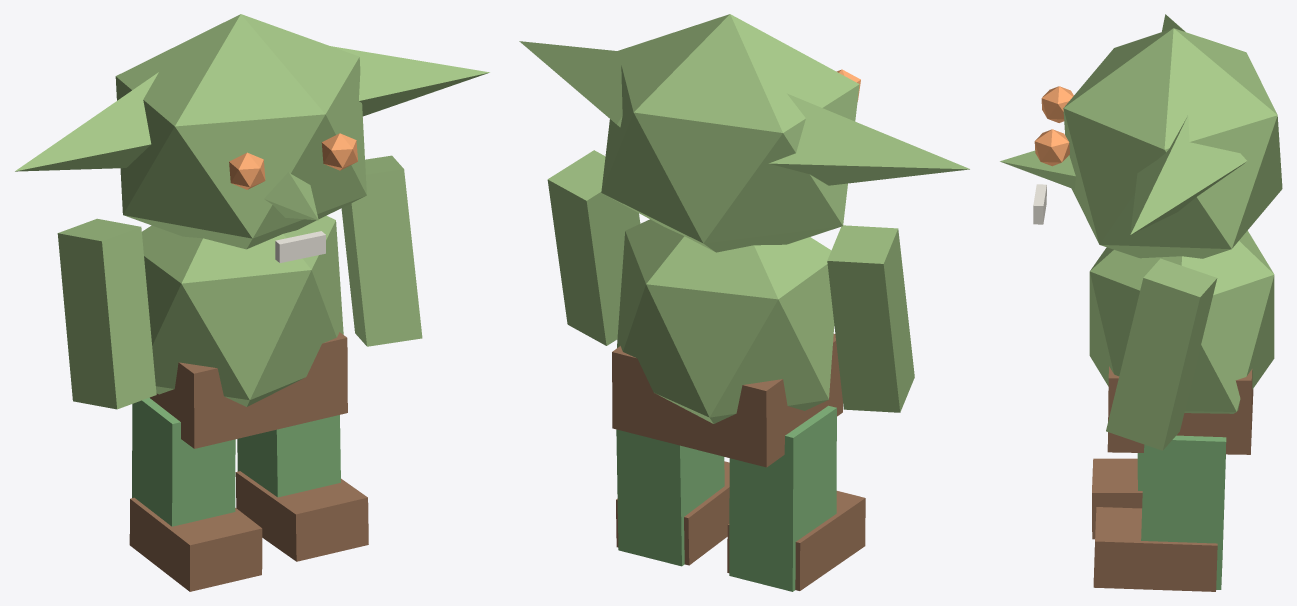
The model's file is npcpose_goblin_idle_07.glb.
The picture shows the model from 3 angles, left to right: view 1: azimuth 30°, elevation 25°; view 2: azimuth 150°, elevation 25°; view 3: azimuth 270°, elevation 25°; orthographic projection. The views are drawn at different scales.
Visible parts, largest first — view 1: npcpose; view 2: npcpose; view 3: npcpose.
Part boxes in pixels (x1=…): npcpose: x1=15, y1=14, x2=489, y2=591; npcpose: x1=519, y1=14, x2=969, y2=591; npcpose: x1=1000, y1=14, x2=1282, y2=591.
Bounding box in the file's own units: 1.03 × 1.12 × 0.5538.
